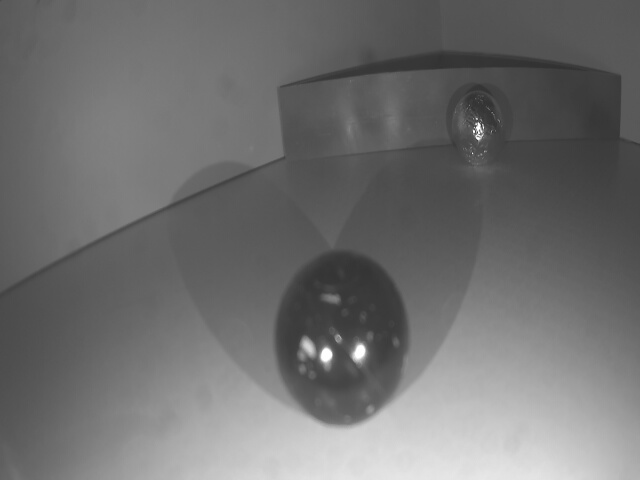Dead: (272, 254, 408, 425)
Live: (452, 91, 505, 168)
Red: (277, 70, 623, 159)
